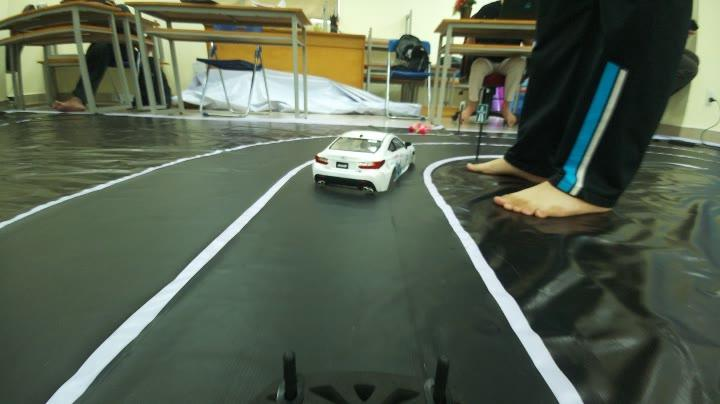car: (316, 123, 419, 196)
